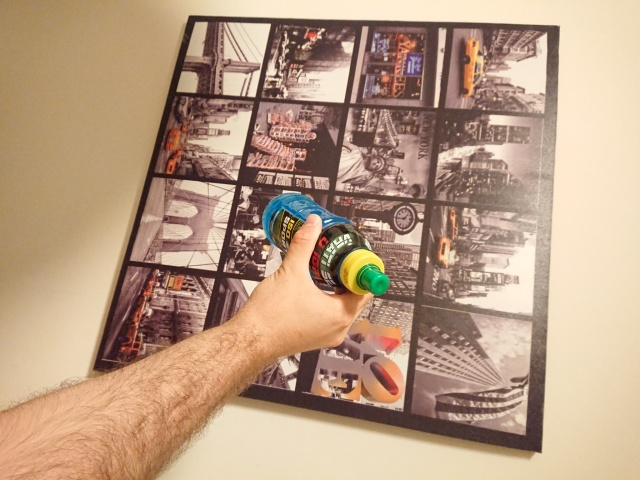Vindi Iso Sport Forest Strawberries 500mL: (259, 190, 391, 296)
